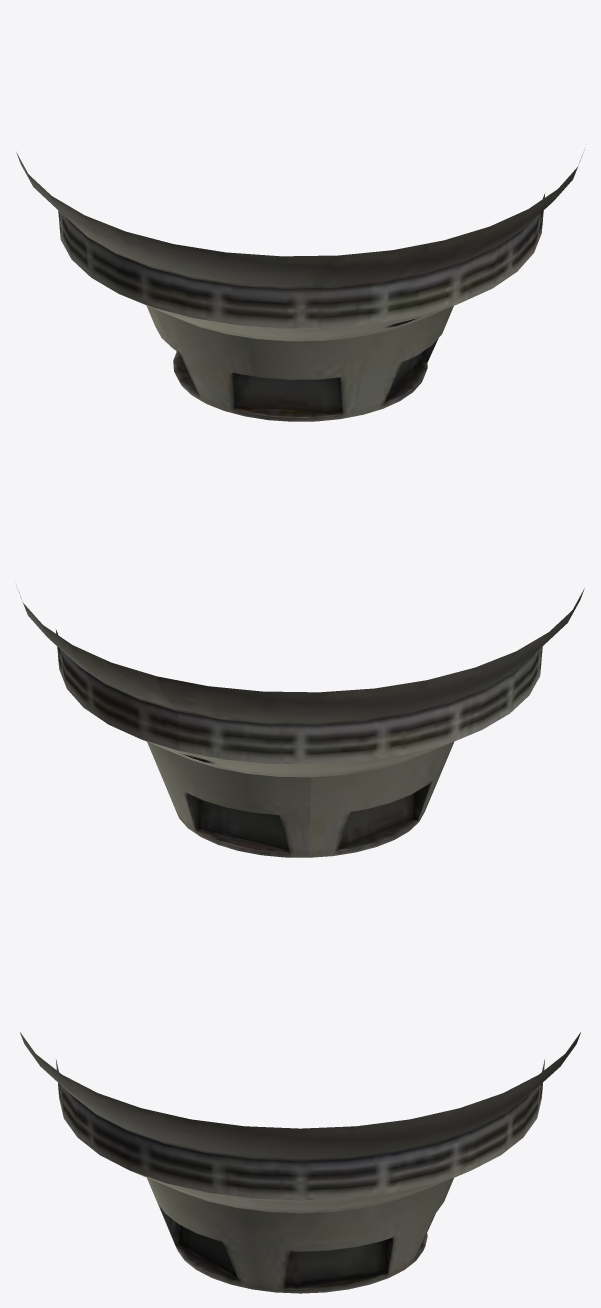
File: smokedetector_b.glb
3 renders of one model, top to bottom at view 1: azimuth 30°, elevation 25°; view 2: azimuth 150°, elevation 25°; view 3: azimuth 270°, elevation 25°, orthographic.
Visible parts, largest first — view 1: SmokeDetector_b; view 2: SmokeDetector_b; view 3: SmokeDetector_b.
Boxes of the visible parts, box(x1,y1,x2,y2) form: SmokeDetector_b: box(16, 150, 584, 421); SmokeDetector_b: box(16, 586, 584, 857); SmokeDetector_b: box(20, 1032, 580, 1293).
Bounding box in the file's own units: 0.125 × 0.0561 × 0.125.
Materials: 1 (1 with a texture image).
